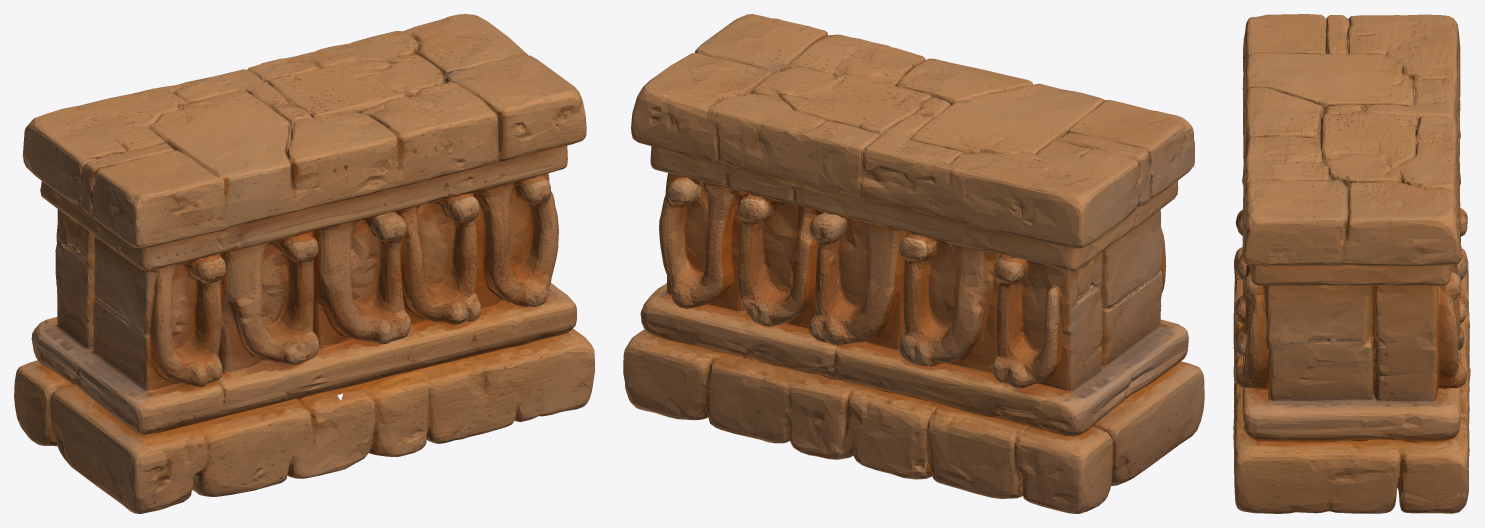
The model's file is gavaksha-relief-wall-panel-optimized.glb.
3 views of the same model, side by side, from view 1: azimuth 30°, elevation 25°; view 2: azimuth 150°, elevation 25°; view 3: azimuth 270°, elevation 25° (orthographic). The views are drawn at different scales.
Visible parts, largest first — view 1: 7487f51a-e5c7-466c-86f3-54fbcba6d27c_texturing.obj; view 2: 7487f51a-e5c7-466c-86f3-54fbcba6d27c_texturing.obj; view 3: 7487f51a-e5c7-466c-86f3-54fbcba6d27c_texturing.obj.
Boxes of the visible parts, x1,y1,x2,y2 form: 7487f51a-e5c7-466c-86f3-54fbcba6d27c_texturing.obj: (14,14,594,513); 7487f51a-e5c7-466c-86f3-54fbcba6d27c_texturing.obj: (623,14,1204,513); 7487f51a-e5c7-466c-86f3-54fbcba6d27c_texturing.obj: (1233,14,1470,513).
Size of the model in its own units: 3 by 1.98 by 1.42.
Materials: 1 (1 with a texture image).
